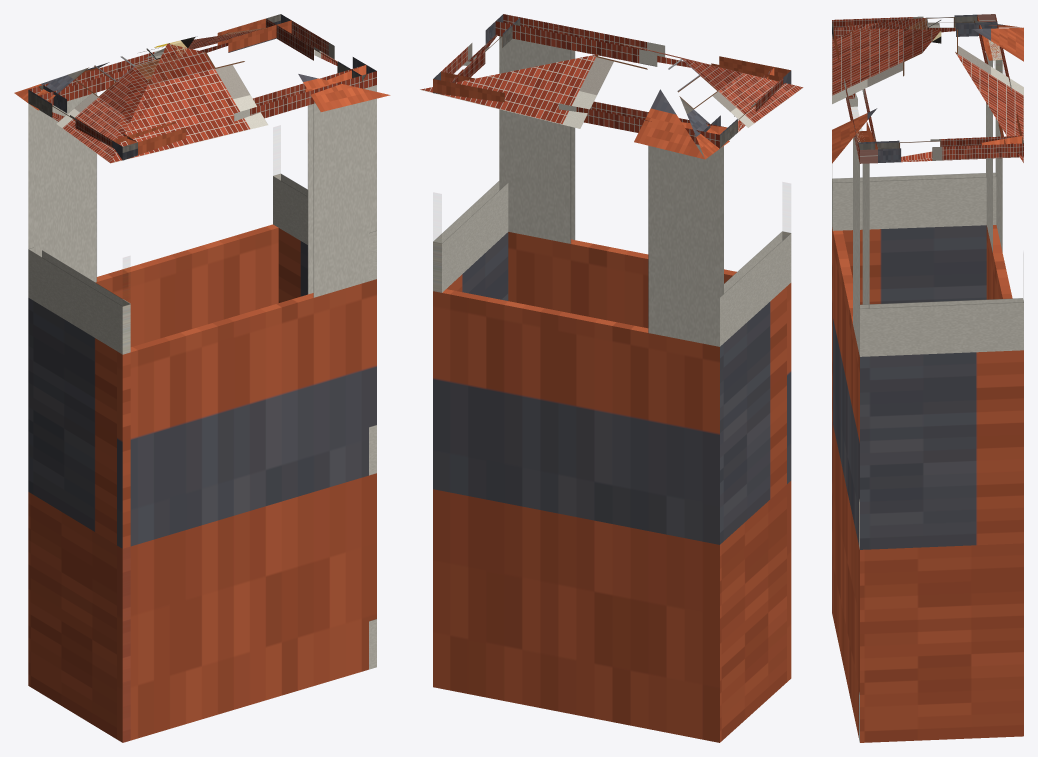
3 renders of one model, left to right at view 1: azimuth 30°, elevation 25°; view 2: azimuth 150°, elevation 25°; view 3: azimuth 270°, elevation 25°, orthographic. The views are drawn at different scales.
Visible parts, largest first — view 1: 238575826__wall_1_xb, 238575826__wall_0_xb, 238575826__wall_3_xb, 238575826_roof_front_xb, 238575826_roof_left_xb, 238575826__wall_2_xb, 238575826__cornice_1, 238575826__cornice_3, 238575826__cornice_2, 238575826__cornice_0; view 2: 238575826__wall_3_xb, 238575826__wall_0_xb, 238575826__wall_1_xb, 238575826_roof_back_xb, 238575826__wall_2_xb, 238575826__cornice_1, 238575826_roof_left_xb, 238575826__cornice_3, 238575826__cornice_2, 238575826__cornice_0; view 3: 238575826__wall_2_xb, 238575826__wall_0_xb, 238575826__wall_1_xb, 238575826_roof_front_xb, 238575826_roof_back_xb, 238575826__wall_3_xb, 238575826__cornice_2, 238575826__cornice_0, 238575826__cornice_1, 238575826_roof_left_xb, 238575826__cornice_3.
Boxes of the visible parts, x1,y1,x2,y2 form: 238575826__wall_1_xb: (117, 85, 376, 742); 238575826__wall_0_xb: (28, 247, 130, 742); 238575826__wall_3_xb: (28, 92, 278, 346); 238575826_roof_front_xb: (110, 43, 390, 163); 238575826_roof_left_xb: (14, 36, 195, 163); 238575826__wall_2_xb: (273, 173, 376, 669); 238575826__cornice_1: (112, 64, 376, 159); 238575826__cornice_3: (28, 14, 291, 105); 238575826__cornice_2: (266, 14, 376, 81); 238575826__cornice_0: (28, 85, 137, 160); 238575826__wall_3_xb: (433, 144, 723, 742); 238575826__wall_0_xb: (720, 231, 791, 742); 238575826__wall_1_xb: (499, 36, 791, 681); 238575826_roof_back_xb: (420, 54, 704, 159); 238575826__wall_2_xb: (433, 181, 508, 300); 238575826__cornice_1: (495, 14, 791, 84); 238575826_roof_left_xb: (618, 43, 803, 159); 238575826__cornice_3: (433, 72, 727, 148); 238575826__cornice_2: (441, 14, 520, 82); 238575826__cornice_0: (703, 67, 783, 148); 238575826__wall_2_xb: (859, 298, 1023, 742); 238575826__wall_0_xb: (832, 173, 996, 616); 238575826__wall_1_xb: (833, 131, 869, 737); 238575826_roof_front_xb: (832, 28, 940, 163); 238575826_roof_back_xb: (955, 27, 1023, 163); 238575826__wall_3_xb: (986, 39, 1012, 299); 238575826__cornice_2: (858, 136, 1023, 162); 238575826__cornice_0: (832, 14, 997, 39); 238575826__cornice_1: (833, 19, 877, 163); 238575826_roof_left_xb: (845, 17, 1021, 43); 238575826__cornice_3: (977, 14, 1022, 144).
Bounding box in the file's own units: 0.5291 × 1.14 × 0.3154.
Materials: 1 (1 with a texture image).
